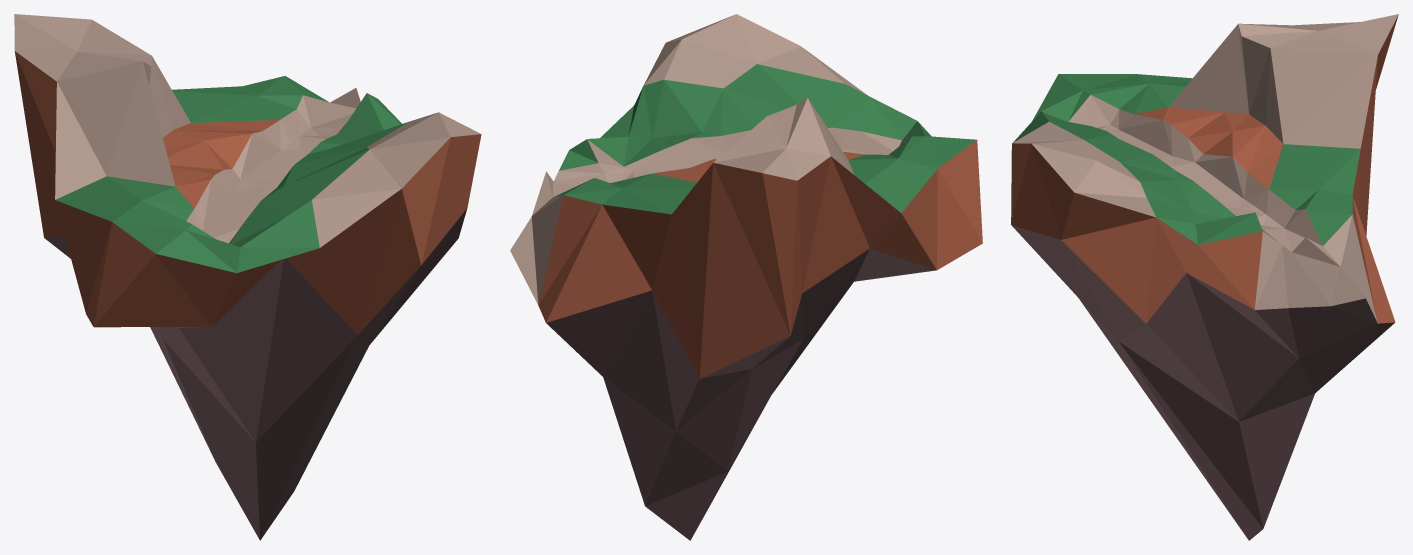
File: island4.fbx
3 views of the same model, side by side, from view 1: azimuth 30°, elevation 25°; view 2: azimuth 150°, elevation 25°; view 3: azimuth 270°, elevation 25° (orthographic). The views are drawn at different scales.
Parts seen in each view (by area): view 1: Island4; view 2: Island4; view 3: Island4.
Part boxes in pixels (x1,y1,x2,y2): Island4: (14,14,481,540); Island4: (510,14,982,540); Island4: (1011,14,1398,540).
Size of the model in its own units: 710 by 657 by 866.
